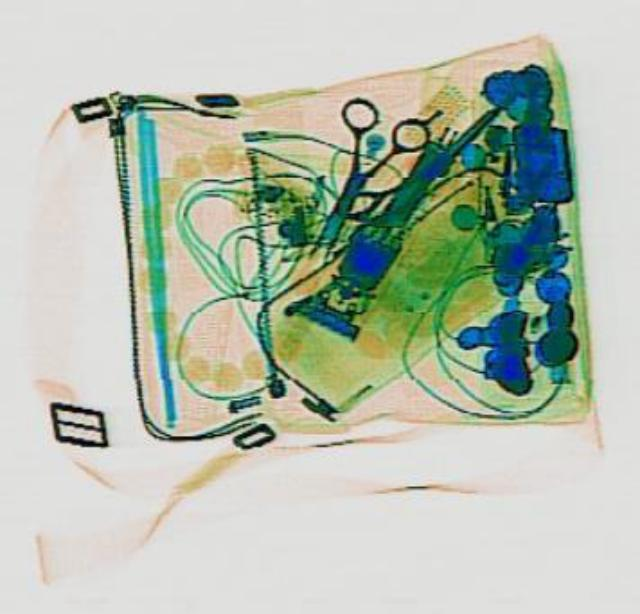Scissors: (268, 90, 432, 275)
